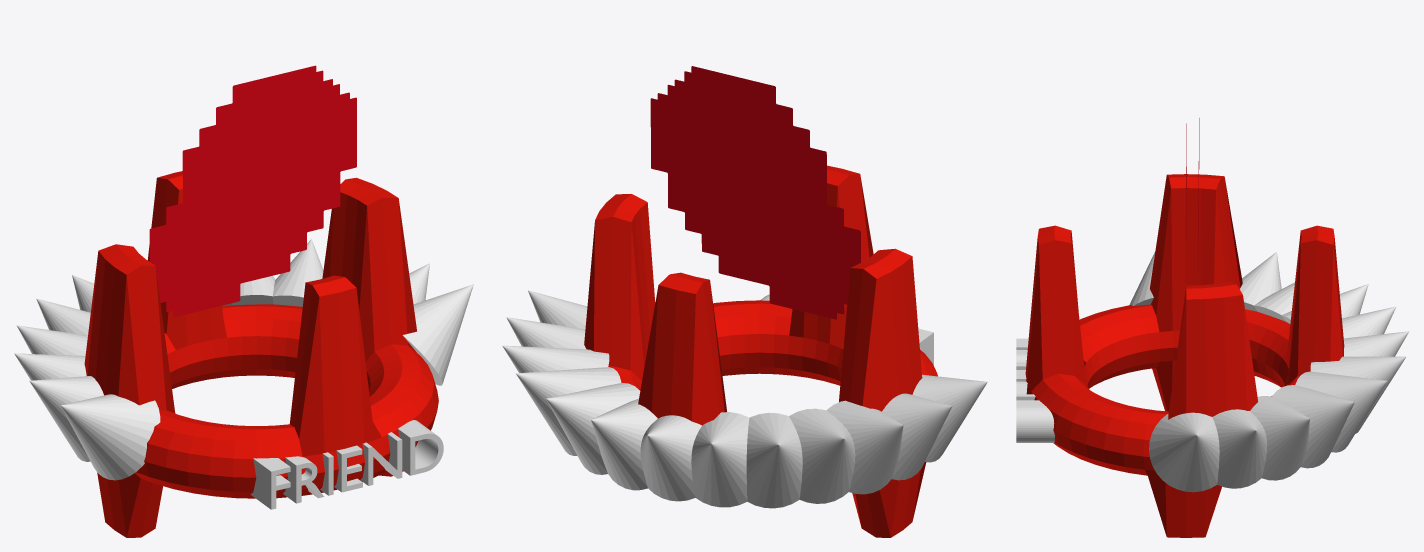
File: ШАПКА Друга лазурита.fbx
3 views of the same model, side by side, from view 1: azimuth 30°, elevation 25°; view 2: azimuth 150°, elevation 25°; view 3: azimuth 270°, elevation 25° (orthographic). The views are drawn at different scales.
Visible parts, largest first — view 1: Torus, Plane, Cone, Text; view 2: Torus, Cone, Plane; view 3: Torus, Cone, Text.
Boxes of the visible parts, left/top/right/bottom form: Torus: left=84, top=171, right=438, bottom=537; Plane: left=149, top=65, right=356, bottom=317; Cone: left=14, top=239, right=473, bottom=480; Text: left=250, top=420, right=443, bottom=509; Torus: left=584, top=165, right=937, bottom=537; Cone: left=502, top=290, right=987, bottom=508; Plane: left=650, top=66, right=860, bottom=319; Torus: left=1025, top=174, right=1344, bottom=537; Cone: left=1129, top=251, right=1409, bottom=492; Text: left=1016, top=338, right=1054, bottom=442.
Bounding box in the file's own units: 344 × 339 × 298.
